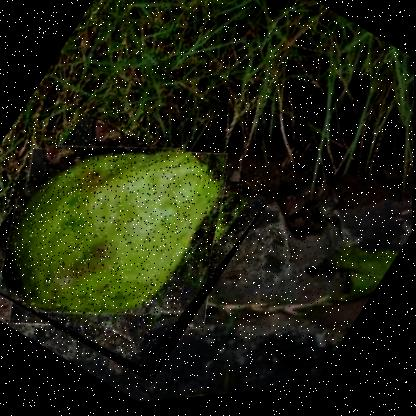guava: (0, 78, 272, 398)
